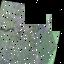Morning glory: (4, 2, 64, 64)
